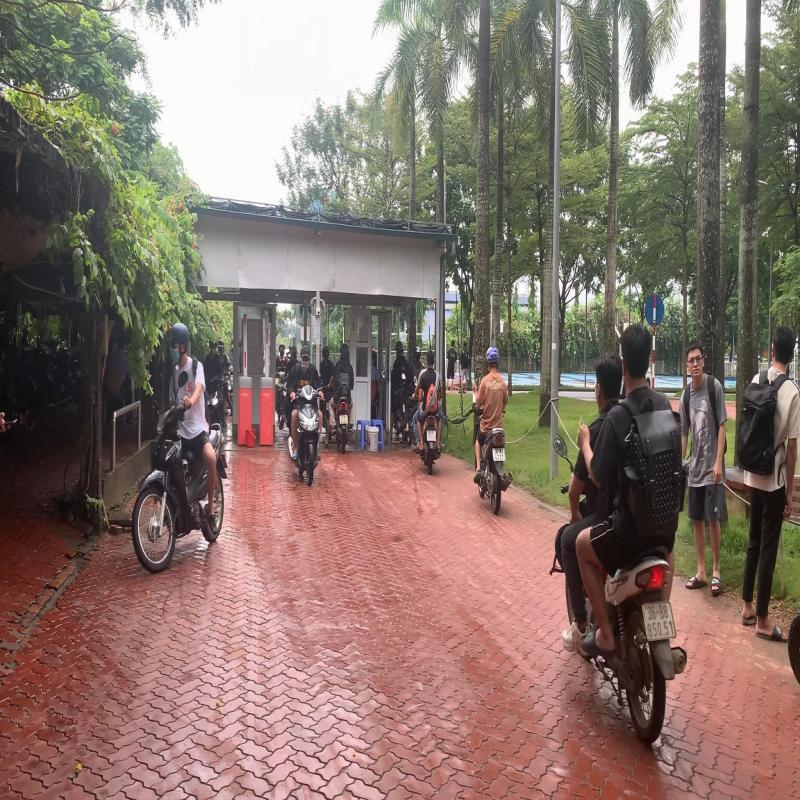licenseplate: (642, 602, 676, 641)
motorcyclist: (546, 318, 688, 748)
nohelmet: (622, 321, 652, 387), (596, 354, 622, 400)
